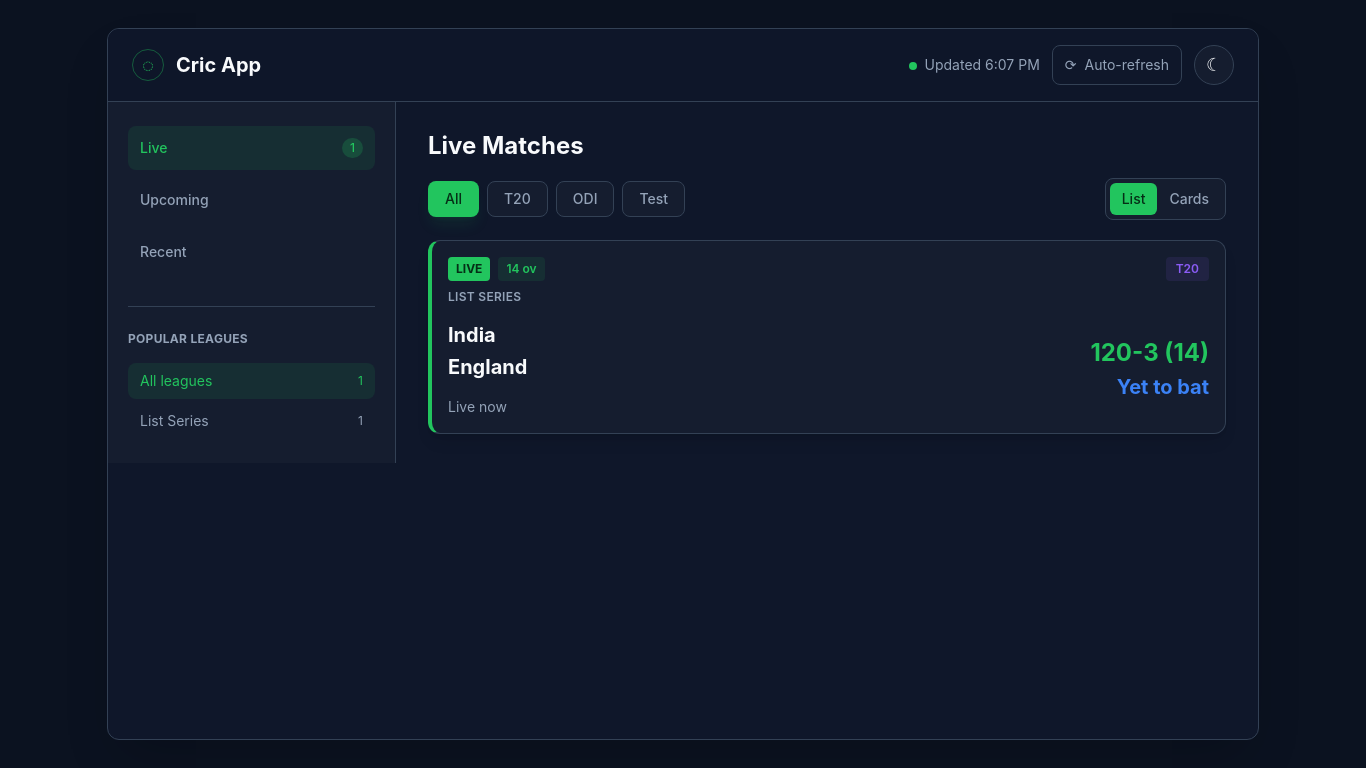
App routing integration › switches tabs on the list page and fetches the selected tab
Expected: the heading "India" is shown, [448, 323, 496, 347]
Click the button "Recent" at [252, 252], box [128, 230, 375, 274]
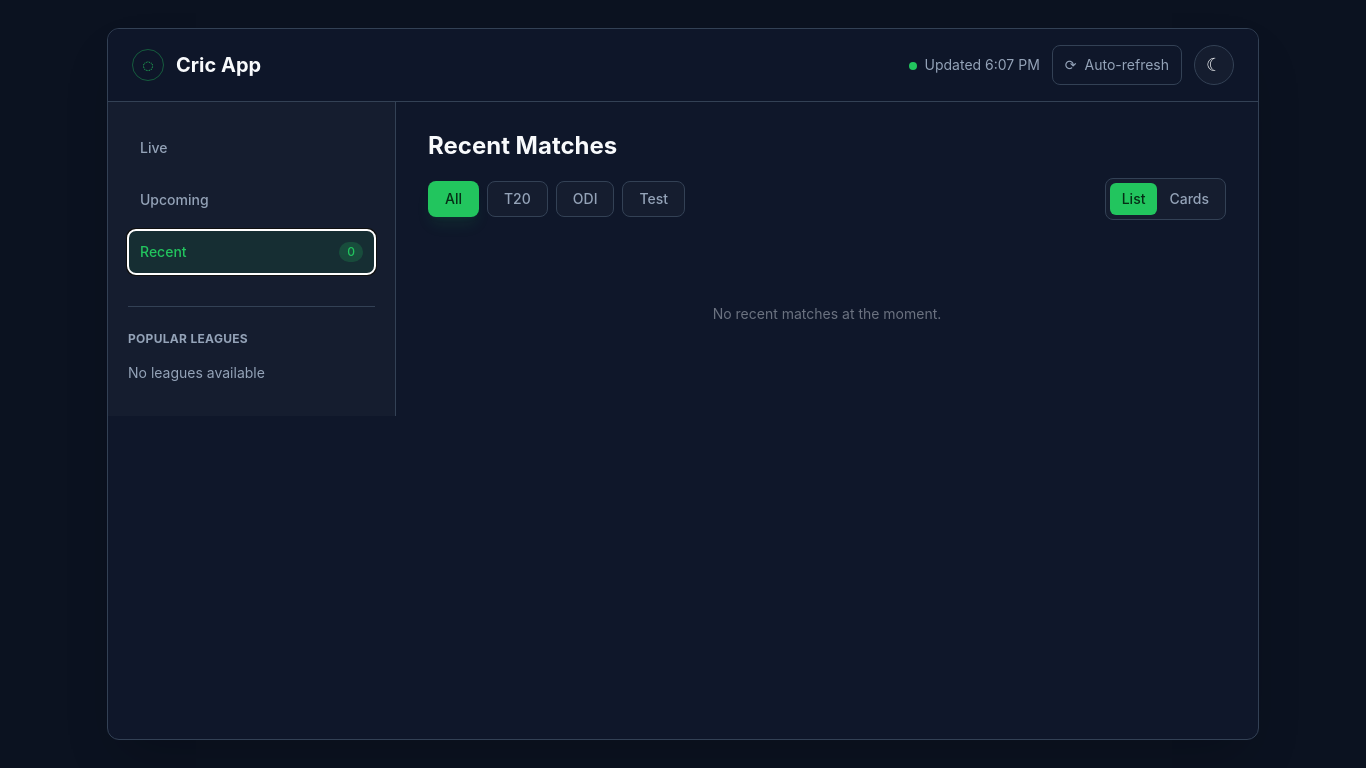
Expected: the text "No recent matches at the moment." is shown, [713, 305, 941, 322]
